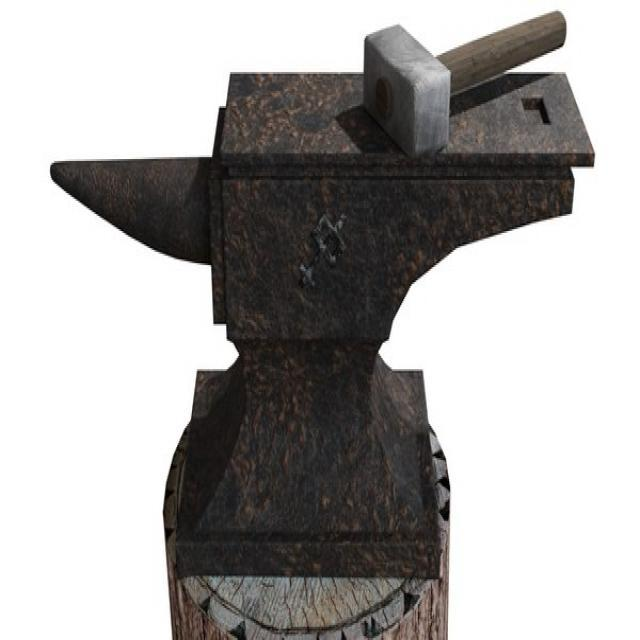hammer: (354, 3, 570, 166)
